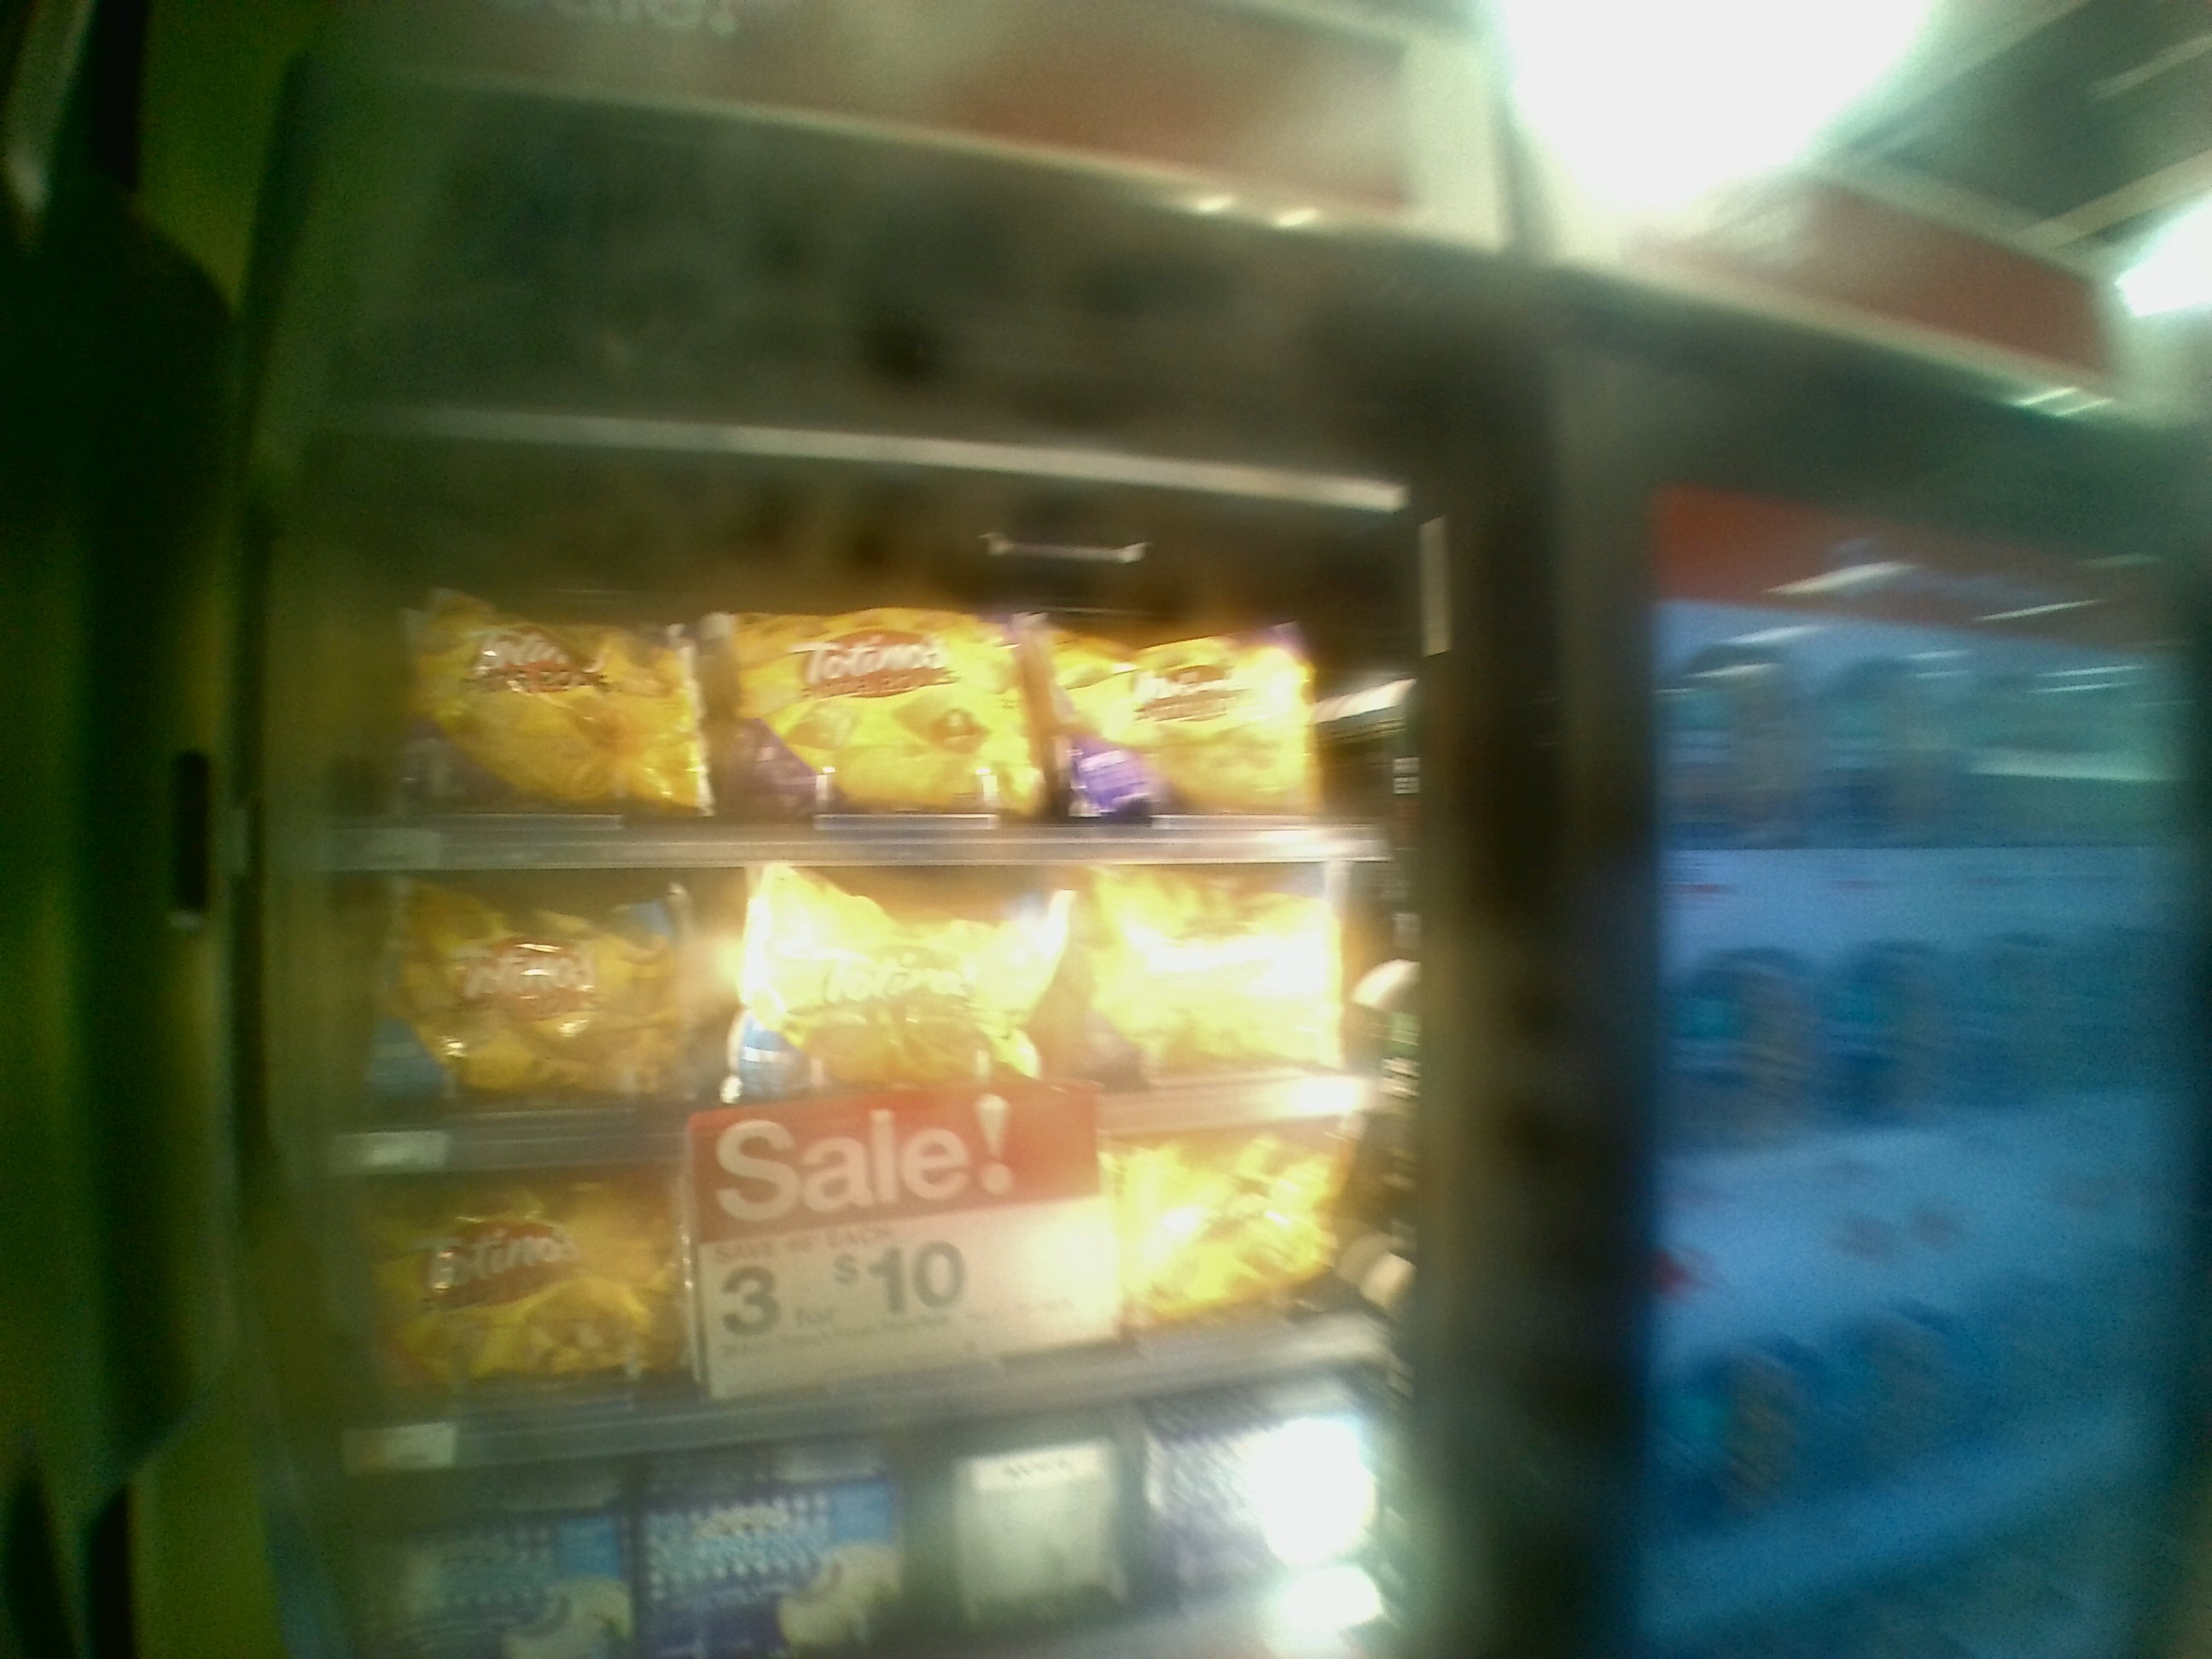shelf: (307, 498, 1423, 859), (307, 864, 1418, 1166)
